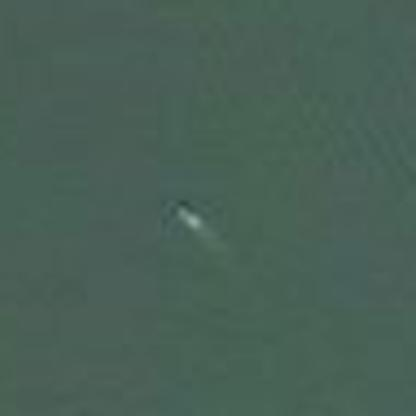ship: (162, 196, 210, 232)
